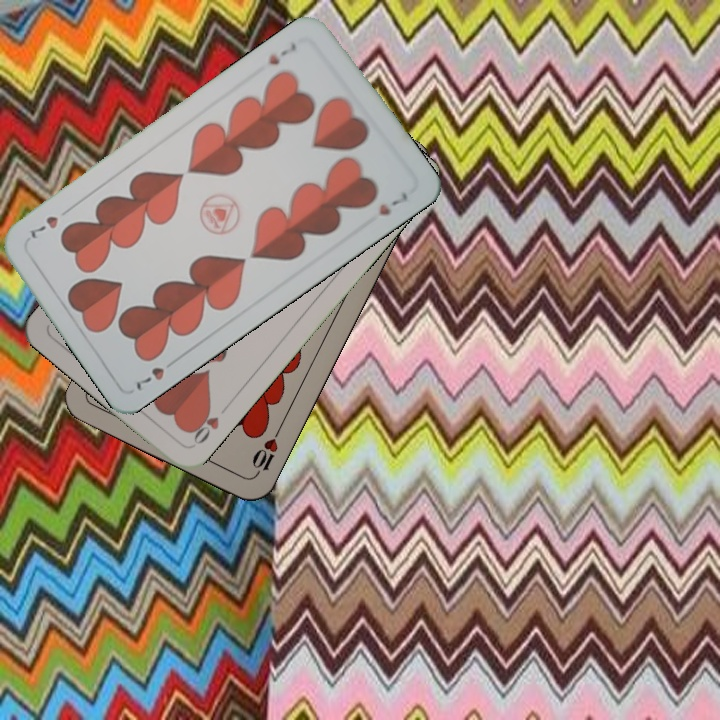H10: (248, 424, 284, 479)
H7: (132, 354, 181, 394), (264, 38, 299, 68)
HO: (185, 402, 222, 448)
